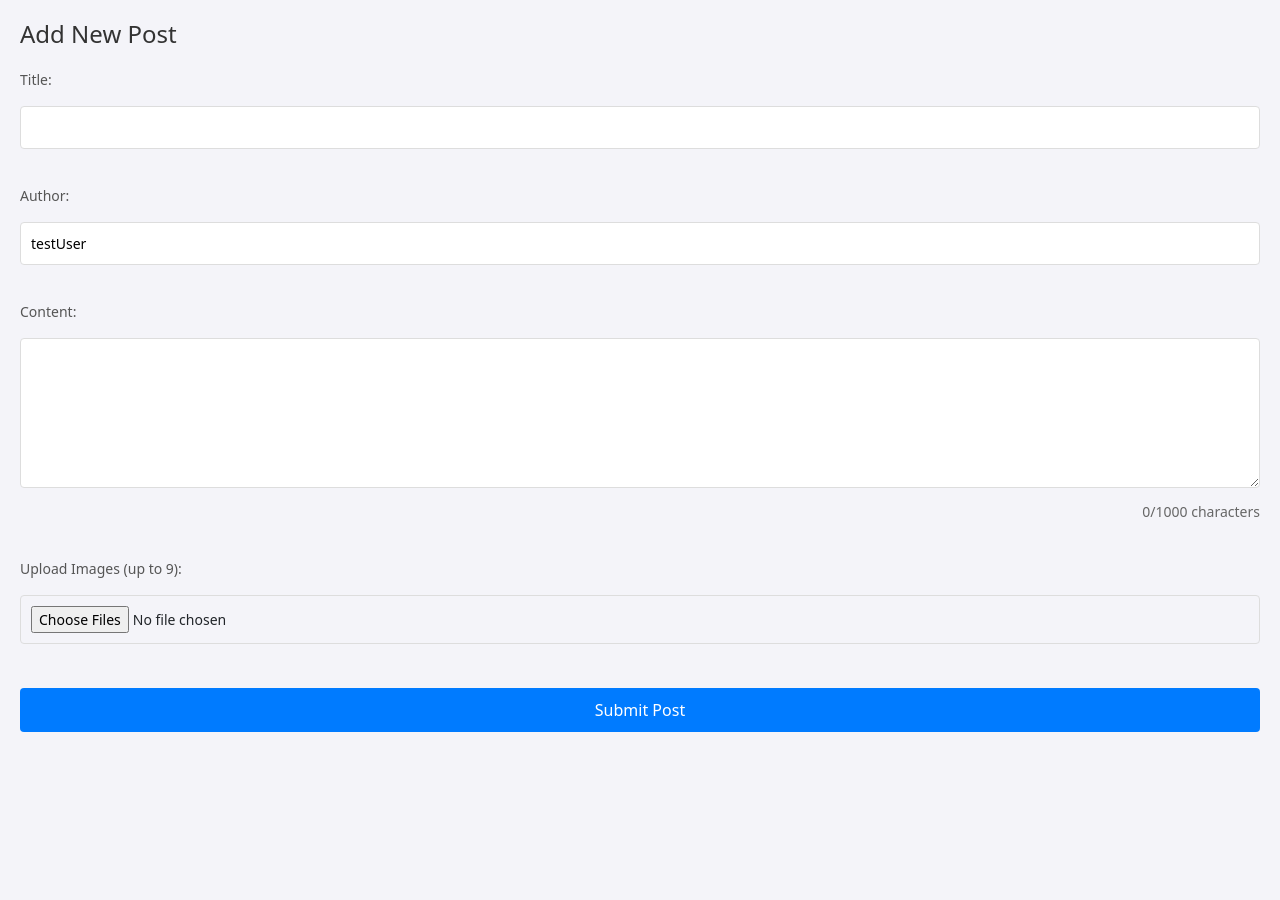
Test: AddPost Component › displays character counter for content
# Simulate typing text
Type "Testing content" into the text box labelled "Content:" at (640, 413), box [20, 338, 1260, 488]
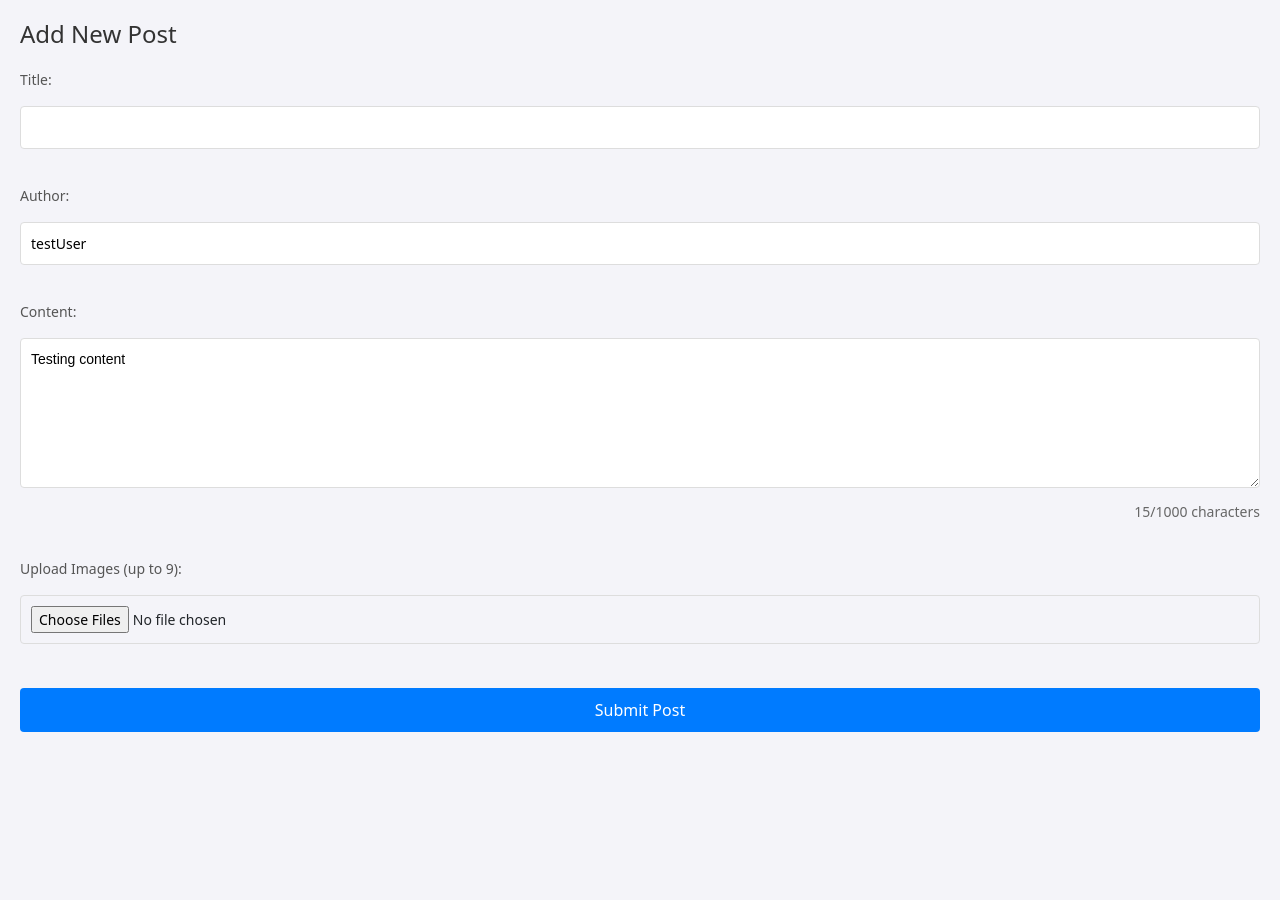
Result: the text "15/1000 characters" is shown at [1134, 502, 1260, 521]
